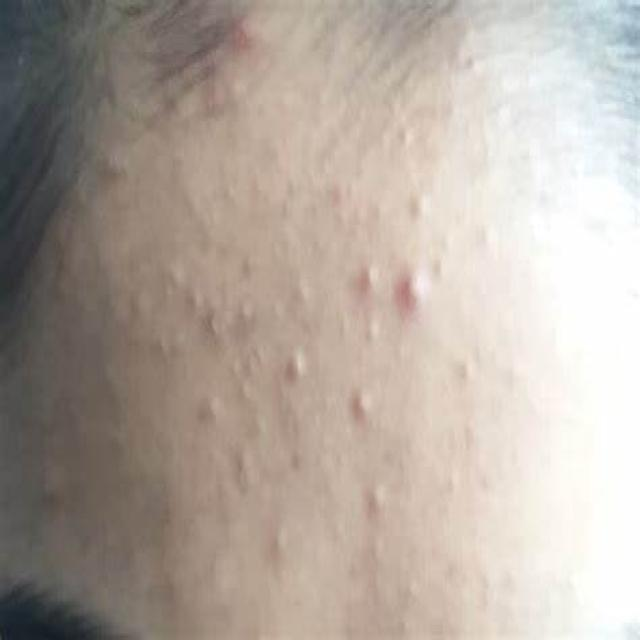fungal: (66, 110, 514, 637)
